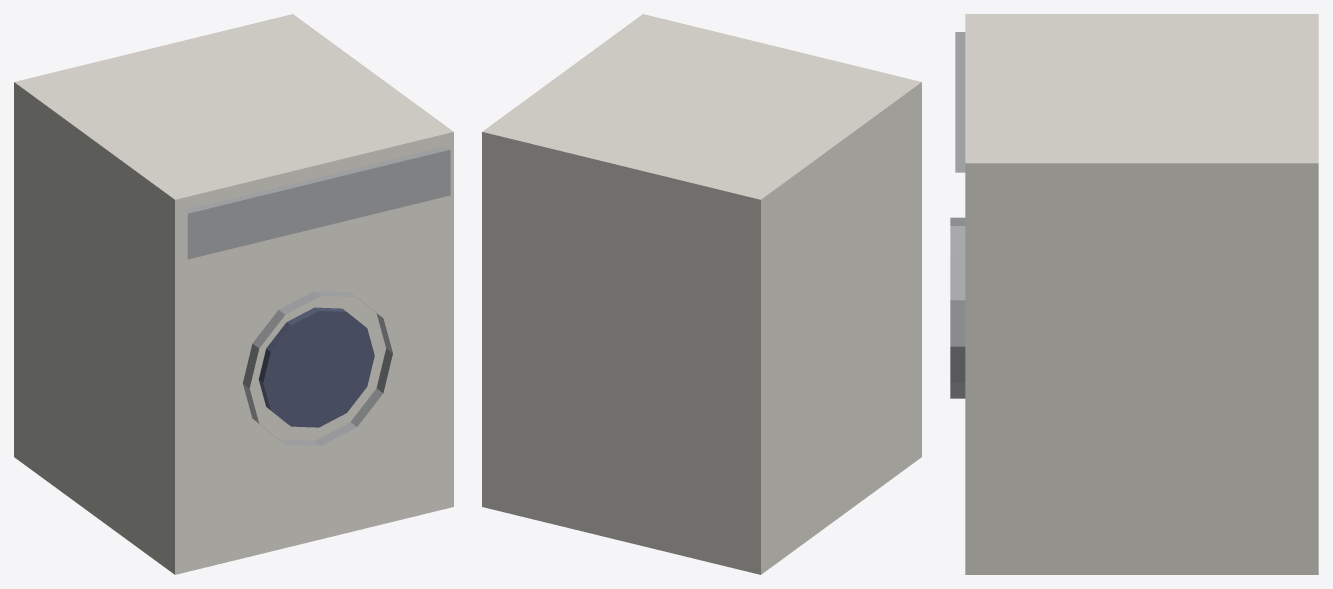
File: washing_machine.gltf
The picture shows the model from 3 angles, left to right: view 1: azimuth 30°, elevation 25°; view 2: azimuth 150°, elevation 25°; view 3: azimuth 270°, elevation 25°; orthographic projection. The views are drawn at different scales.
Visible parts, largest first — view 1: Mesh; view 2: Mesh; view 3: Mesh.
Part boxes in pixels (x1=…): Mesh: x1=14, y1=14, x2=453, y2=574; Mesh: x1=482, y1=14, x2=921, y2=574; Mesh: x1=950, y1=14, x2=1318, y2=574.
Size of what is drawn, in the model's own units: 0.7 by 0.9 by 0.73.
